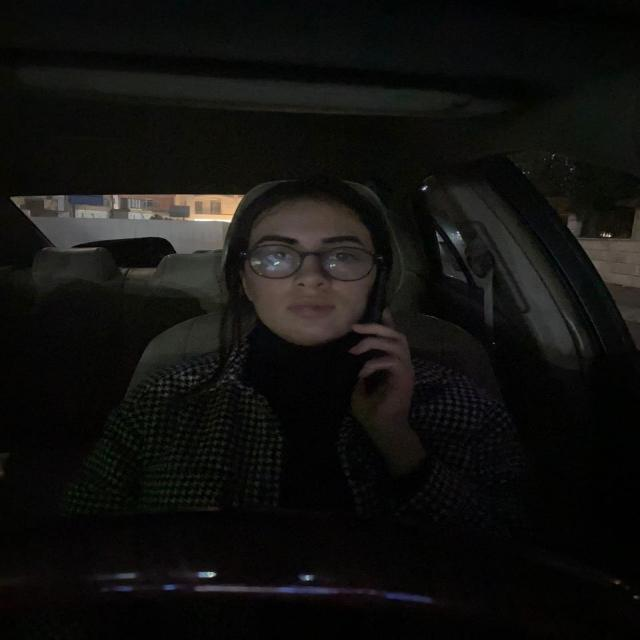mobile: (364, 255, 398, 328)
person: (220, 173, 422, 367)
